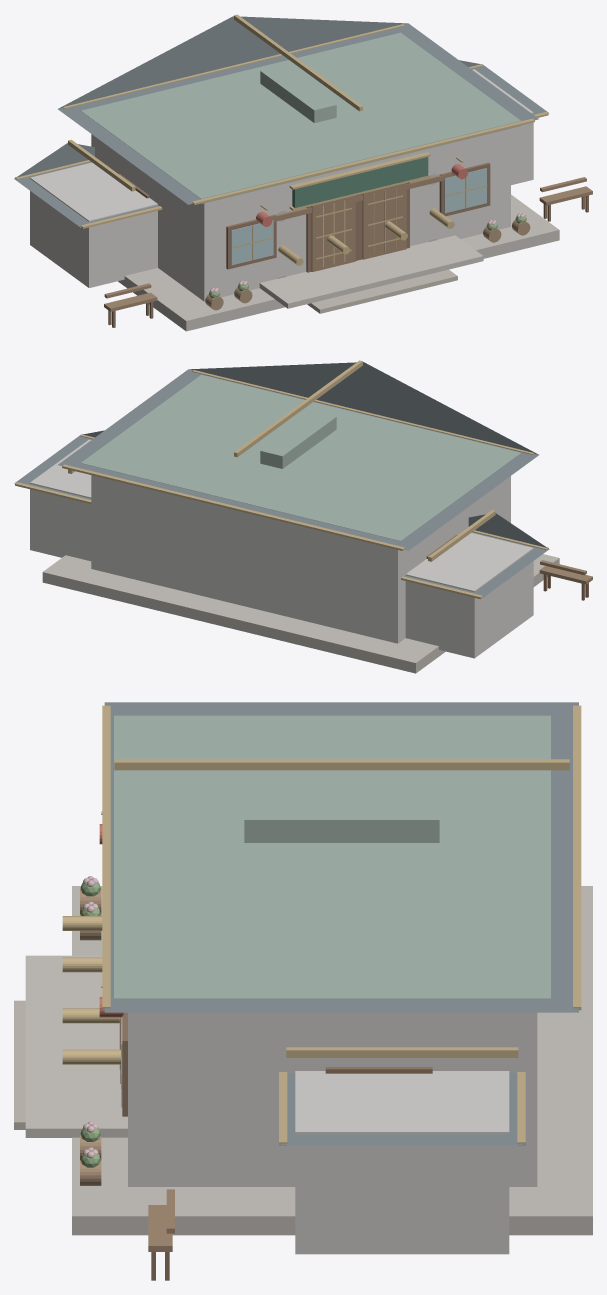
The model's file is nha-hoi-phuc-3d.glb.
The picture shows the model from 3 angles, top to bottom: view 1: azimuth 30°, elevation 25°; view 2: azimuth 150°, elevation 25°; view 3: azimuth 270°, elevation 25°; orthographic projection. The views are drawn at different scales.
Parts seen in each view (by area): view 1: world, hall, roof_main, left_room, porch, base, sign_plate, roof_left, right_room, doorframe, roof_right; view 2: world, hall, roof_main, left_room, base, right_room, roof_left, roof_right; view 3: world, hall, right_room, base, roof_main, porch, roof_right.
Boxes of the visible parts, x1=… form: world: x1=15, y1=14, x2=592, y2=327; hall: x1=91, y1=128, x2=510, y2=301; roof_main: x1=58, y1=16, x2=538, y2=204; left_room: x1=30, y1=162, x2=157, y2=287; porch: x1=259, y1=235, x2=483, y2=308; base: x1=118, y1=194, x2=559, y2=331; sign_plate: x1=292, y1=157, x2=428, y2=207; roof_left: x1=14, y1=143, x2=158, y2=227; right_room: x1=472, y1=69, x2=533, y2=185; doorframe: x1=306, y1=182, x2=409, y2=272; roof_right: x1=459, y1=60, x2=548, y2=114; world: x1=15, y1=360, x2=592, y2=600; hall: x1=91, y1=475, x2=510, y2=643; roof_main: x1=58, y1=362, x2=538, y2=550; left_room: x1=405, y1=533, x2=533, y2=658; base: x1=42, y1=554, x2=559, y2=673; right_room: x1=30, y1=439, x2=91, y2=561; roof_left: x1=404, y1=513, x2=549, y2=597; roof_right: x1=14, y1=430, x2=104, y2=499; world: x1=14, y1=705, x2=581, y2=1280; hall: x1=128, y1=1012, x2=537, y2=1186; right_room: x1=295, y1=1071, x2=509, y2=1254; base: x1=72, y1=886, x2=592, y2=1235; roof_main: x1=104, y1=702, x2=578, y2=1012; porch: x1=25, y1=955, x2=127, y2=1137; roof_right: x1=281, y1=1073, x2=523, y2=1144.
Size of the model in its own units: 21.7 by 7.34 by 12.45.
